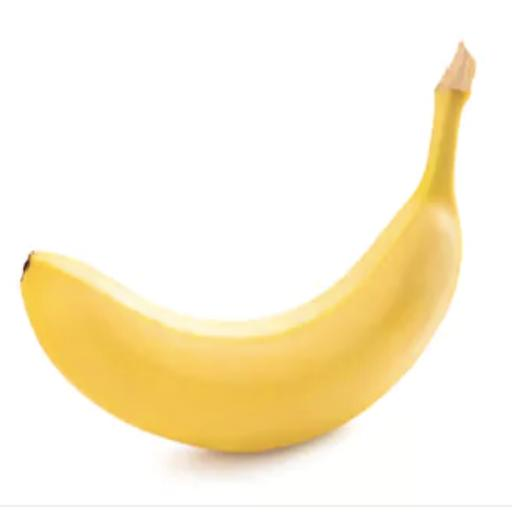banana: (22, 44, 474, 451)
